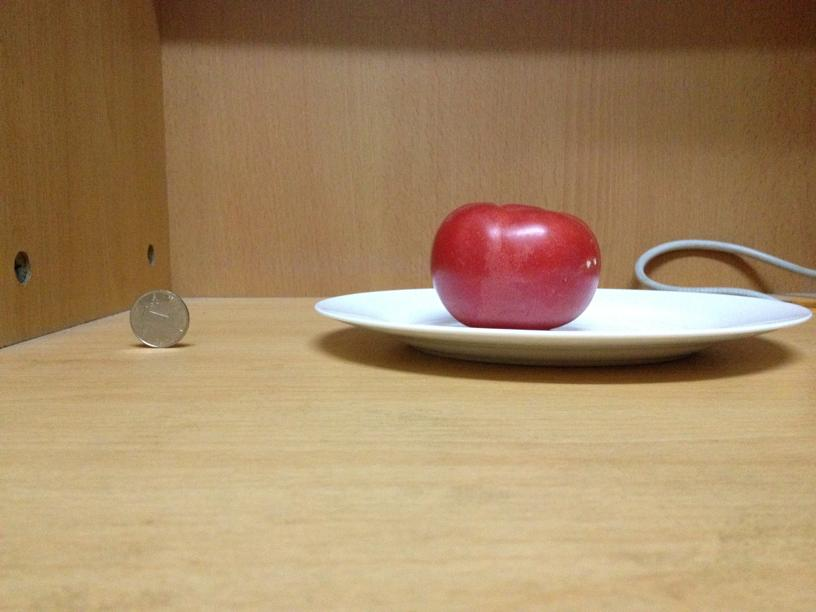coin: (126, 287, 190, 347)
tomato: (421, 203, 603, 327)
